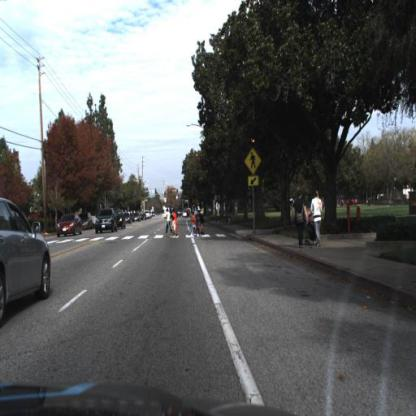car: (1, 196, 52, 324), (54, 209, 84, 240), (56, 210, 84, 239), (94, 207, 118, 235), (96, 208, 117, 234)
pedestrian: (293, 191, 310, 248), (313, 188, 325, 250), (311, 189, 323, 248), (197, 209, 209, 240), (190, 211, 200, 236), (164, 208, 171, 239), (174, 209, 181, 235), (166, 210, 173, 235)
trafficLight-Yellow: (249, 130, 261, 151)
